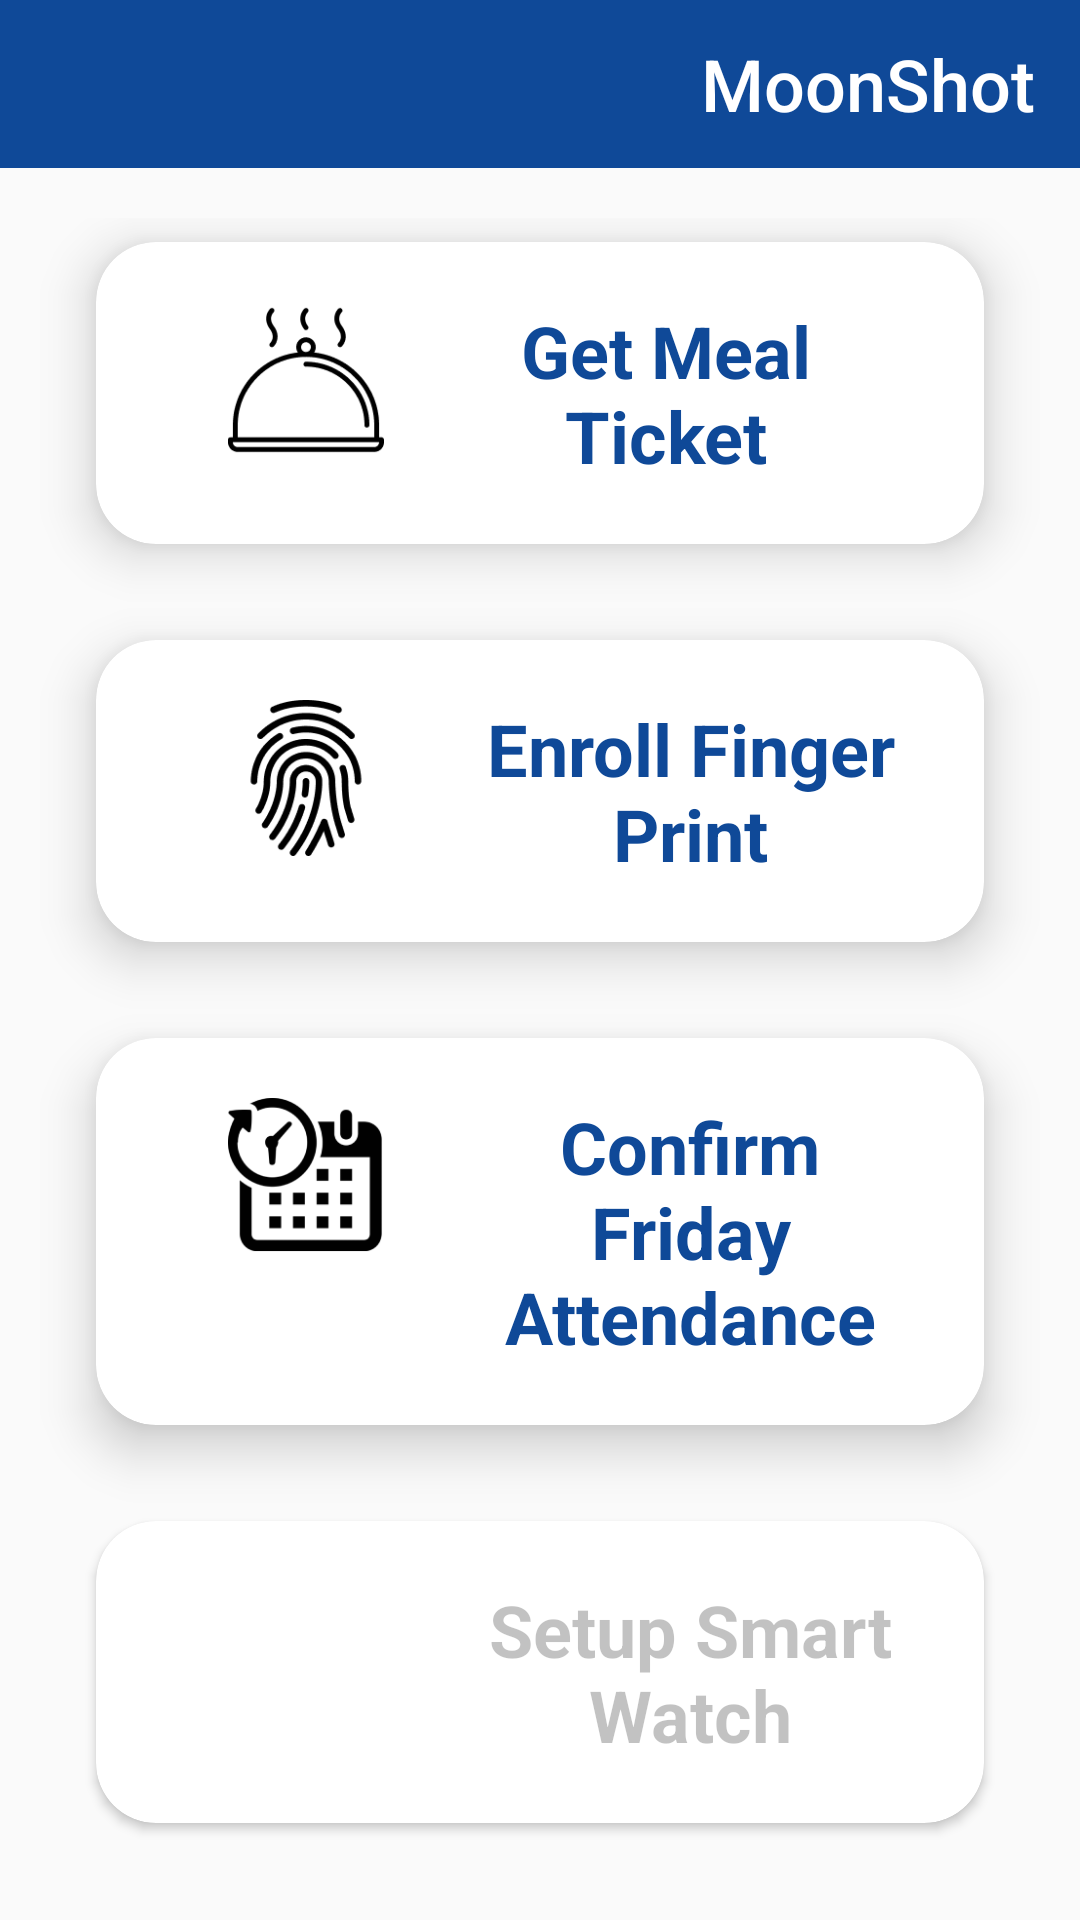

Icons on this 1080w x 1920h Android screen, each with its box as (x1,y1,x2,y2):
calender: (228,1098,382,1251)
clochemeal: (228,307,384,453)
